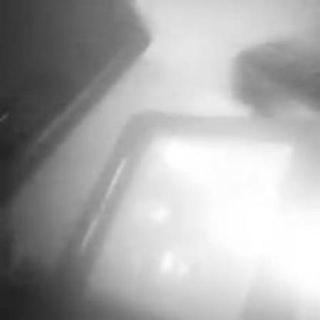other: (148, 133, 302, 293)
